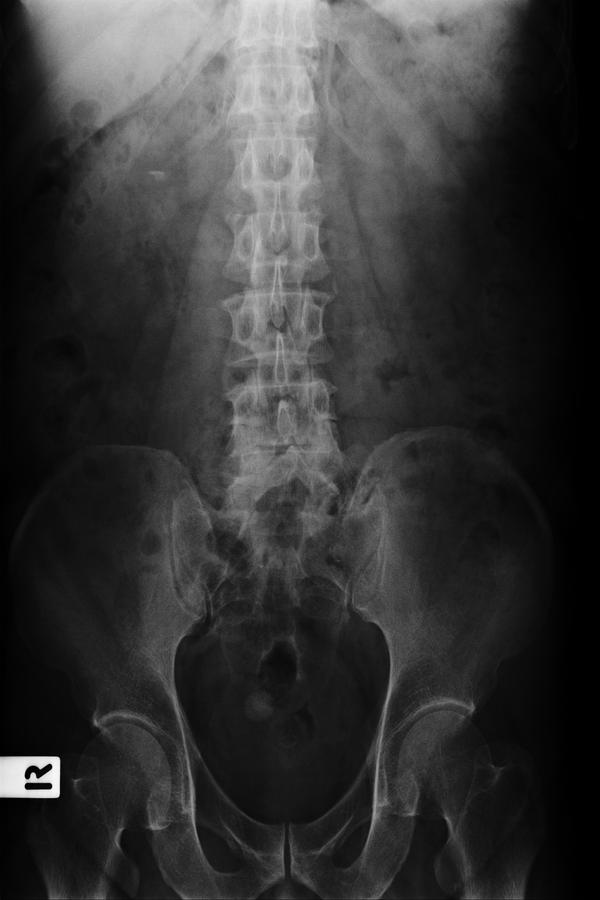lumbar scoliosis: (212, 201, 364, 546)
